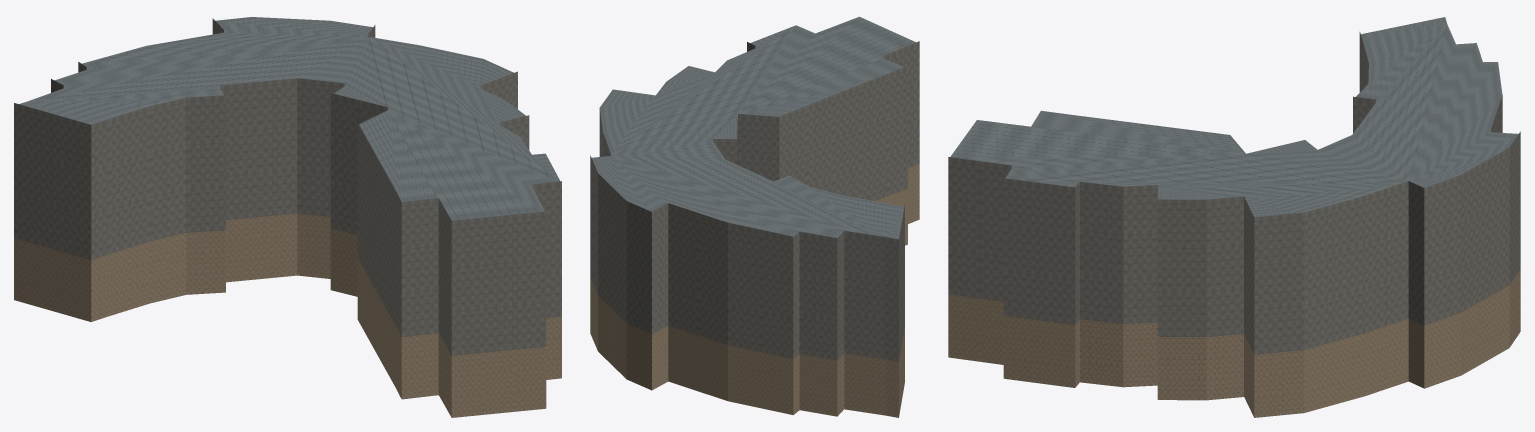
Rendered from bld_c-3_0_545.gltf.
3 renders of one model, left to right at view 1: azimuth 30°, elevation 25°; view 2: azimuth 150°, elevation 25°; view 3: azimuth 270°, elevation 25°, orthographic. The views are drawn at different scales.
Parts seen in each view (by area): view 1: bld_c-3_0_545; view 2: bld_c-3_0_545; view 3: bld_c-3_0_545.
Part boxes in pixels (x1,y1,x2,y2): bld_c-3_0_545: (14, 17, 561, 417); bld_c-3_0_545: (590, 16, 919, 417); bld_c-3_0_545: (948, 17, 1520, 417).
Size of the model in its own units: 35.19 by 16.18 by 41.86.
4 materials, 4 textured.
